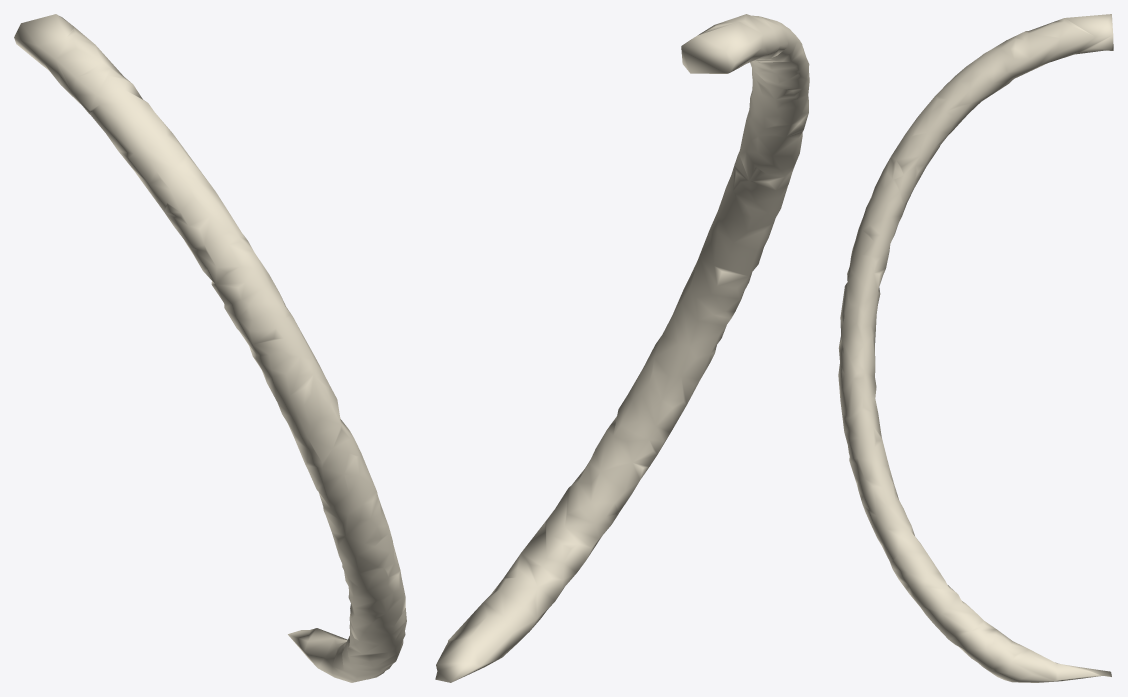
The model's file is rib_2_l.glb.
3 renders of one model, left to right at view 1: azimuth 30°, elevation 25°; view 2: azimuth 150°, elevation 25°; view 3: azimuth 270°, elevation 25°, orthographic. The views are drawn at different scales.
Parts seen in each view (by area): view 1: geometry_0; view 2: geometry_0; view 3: geometry_0.
Boxes of the visible parts, x1,y1,x2,y2 form: geometry_0: (14, 14, 406, 682); geometry_0: (435, 14, 809, 682); geometry_0: (838, 14, 1113, 682).
Size of the model in its own units: 0.2086 by 0.4371 by 0.1957.
